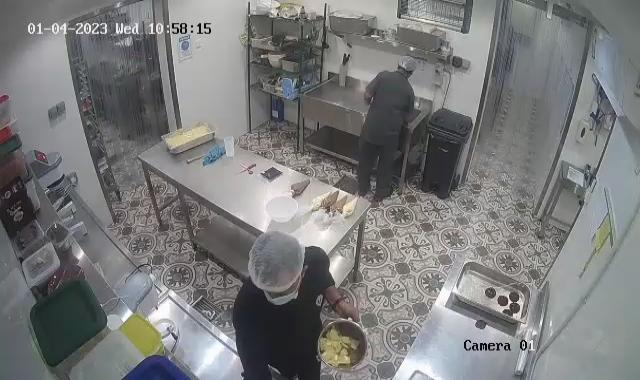hairnet: (248, 229, 305, 296), (396, 52, 418, 76)
